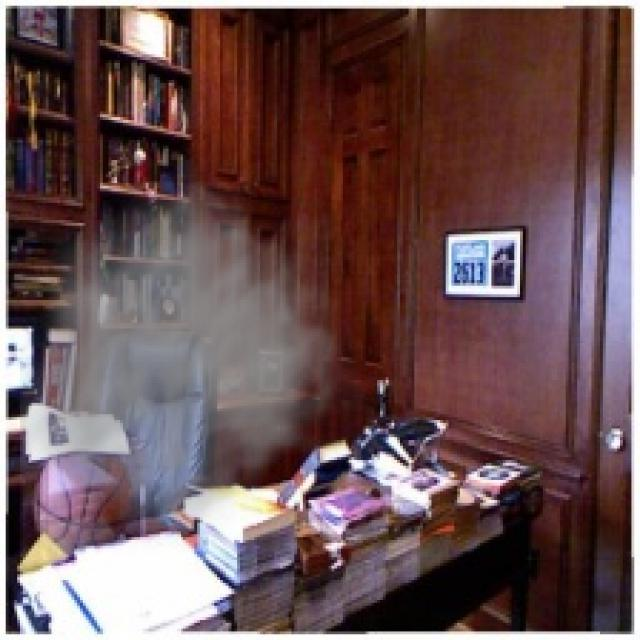Smoke: (20, 162, 380, 554)
